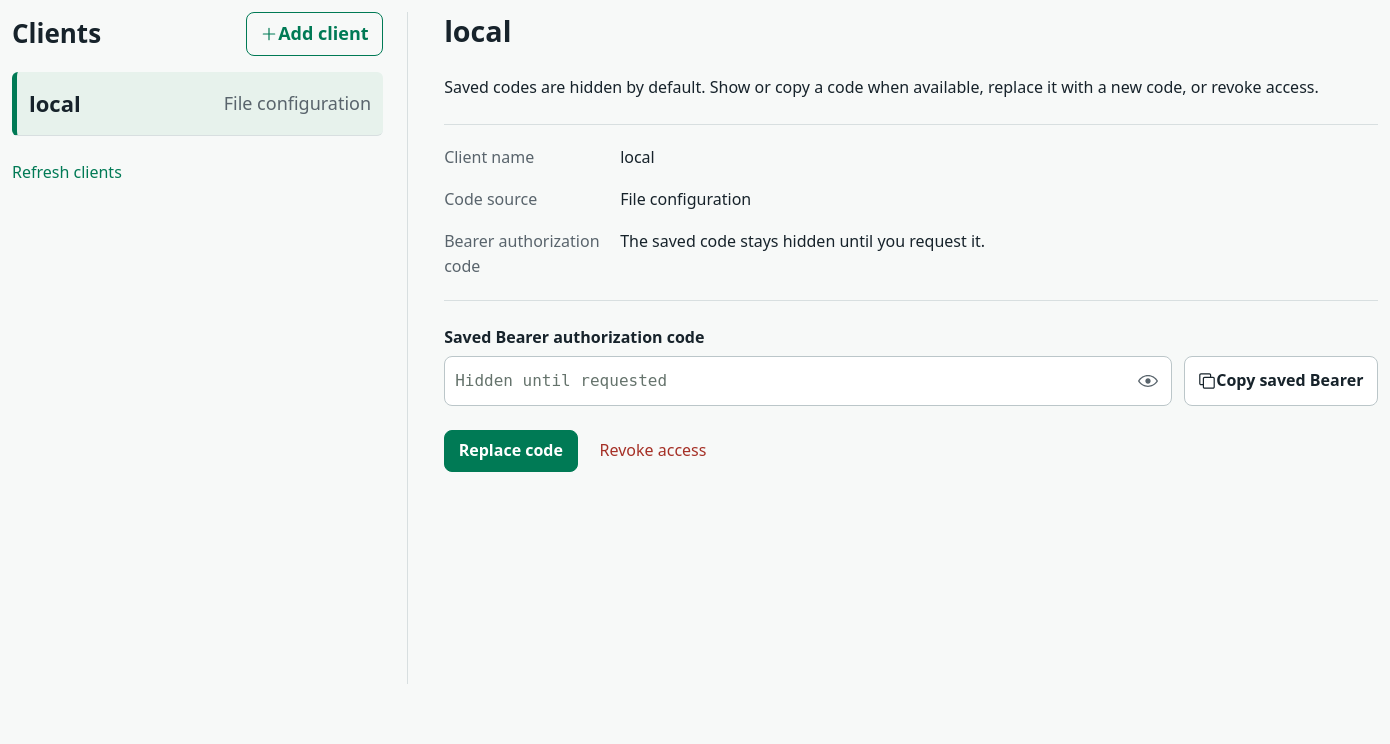
Test: keeps a failed text calculation local and allows retrying
Click the button with aria-label "Replace code for local" at (511, 451), box [444,430,578,472]
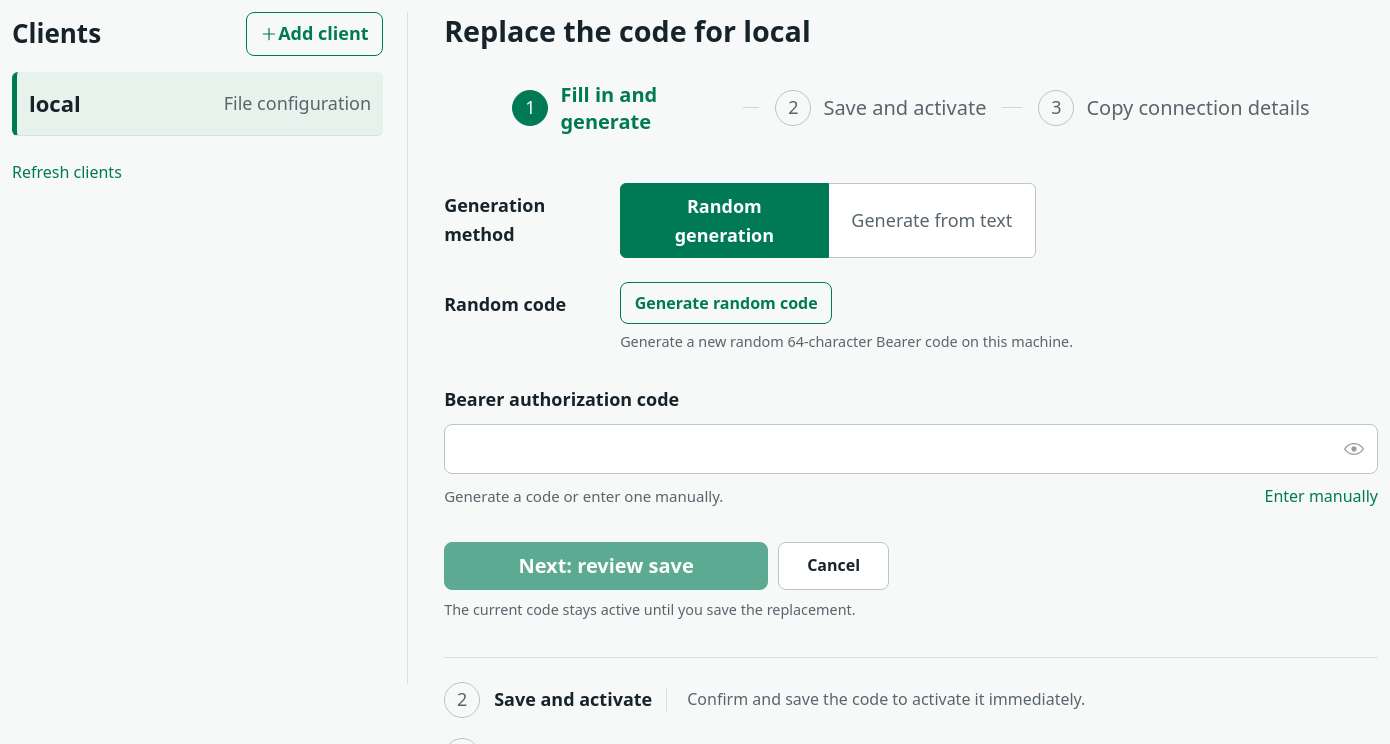
Click the button "Generate from text" at (932, 220), box [828,183,1036,258]
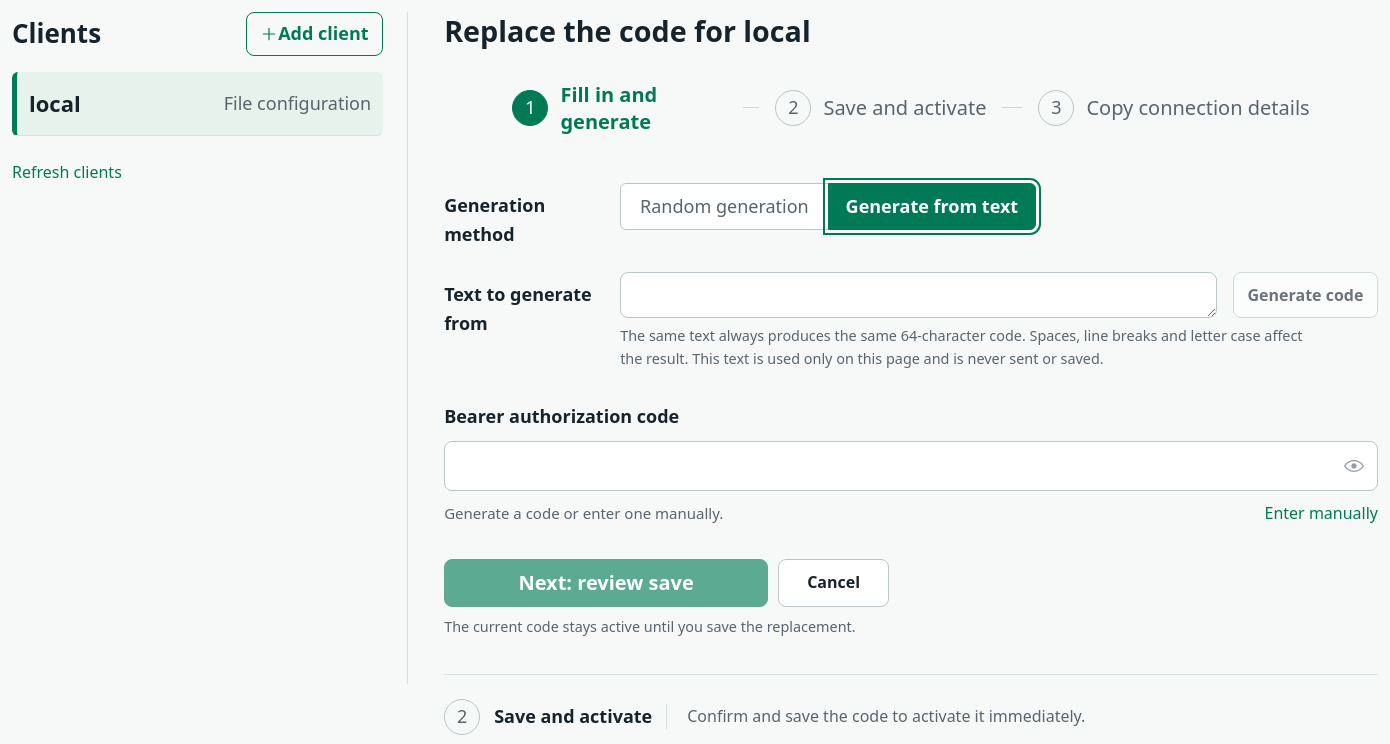
Type "retry-this-text" into the text box labelled "Text to generate from" at (918, 295), box [620,272,1217,318]
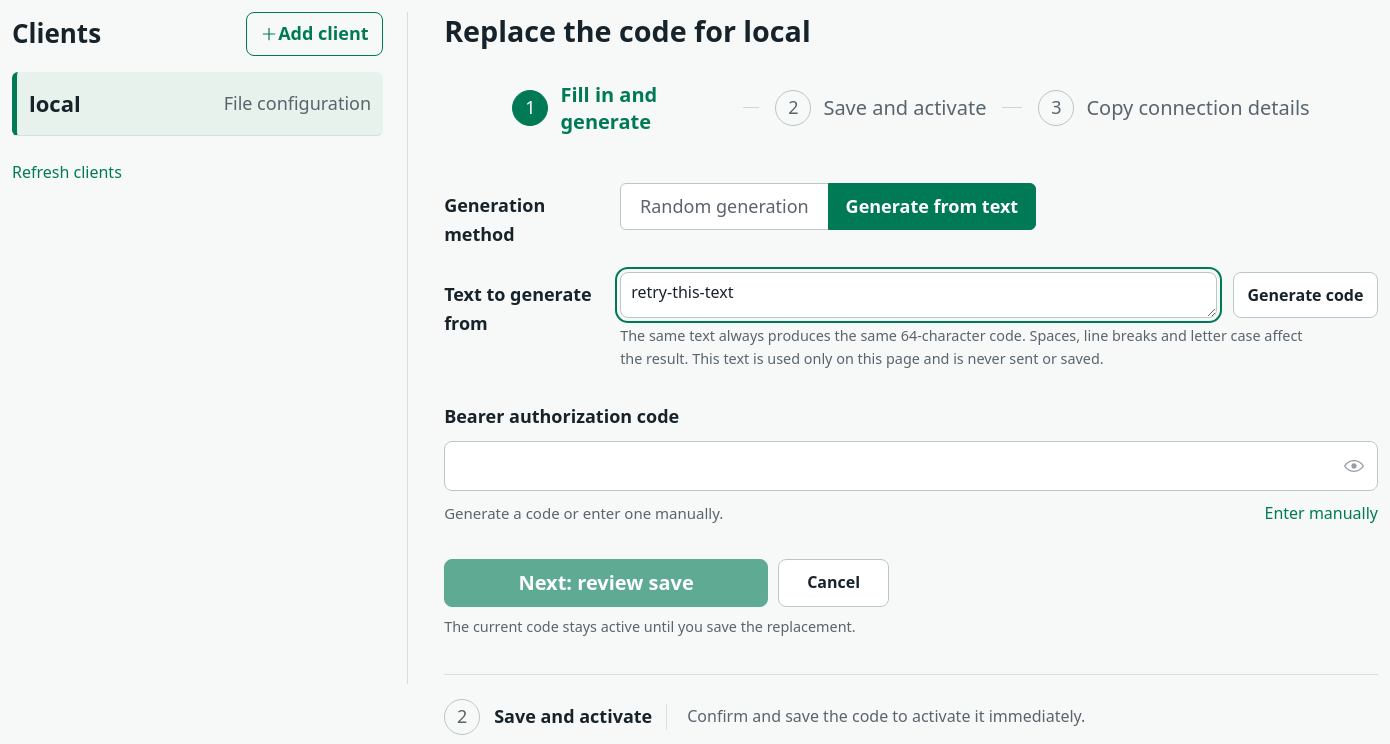
Click the button "Generate code" at (1305, 295), box [1233,272,1378,318]
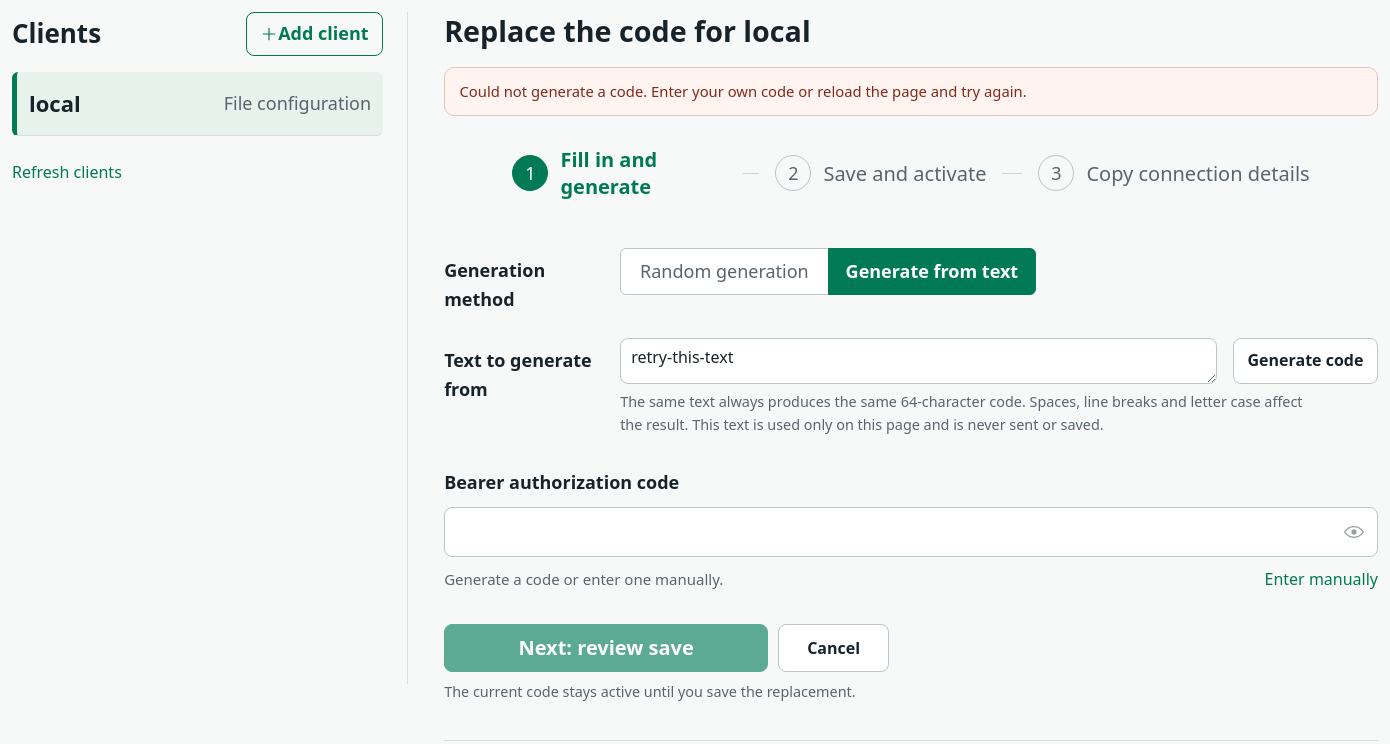
Check: the password field labelled "Bearer authorization code" is empty, box [444,507,1378,557]
Check: the button "Generate code" is enabled, box [1233,338,1378,384]
Check: the 1st message shows "generate", box [460,81,1027,101]
